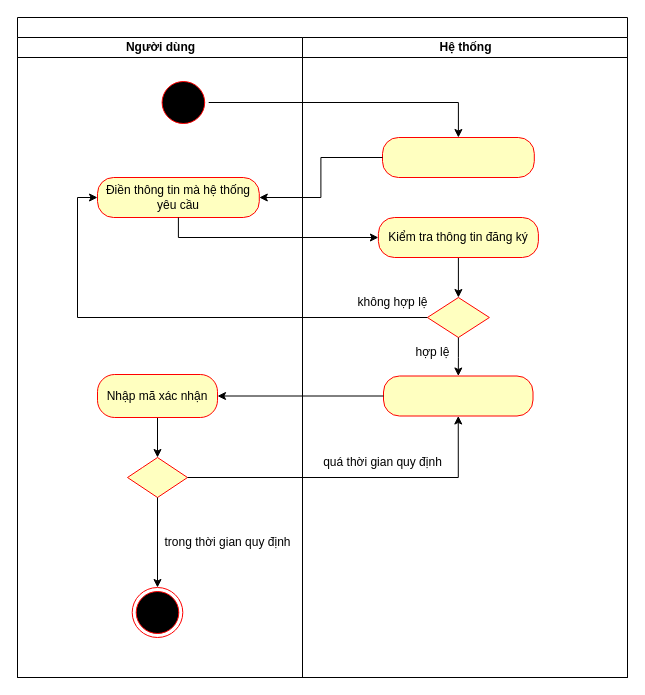
Image size: 645x695. Some labels were removed from this diagram. The shapes that lost their labels are listed below. From the top down, each one's centre as x and y in pixels, then its label:
At pixel 458 157: "Hiển thị màn hình đăng ký tài khoản".
At pixel 457 395: "Gửi mã để kích hoạt tài khoản".
